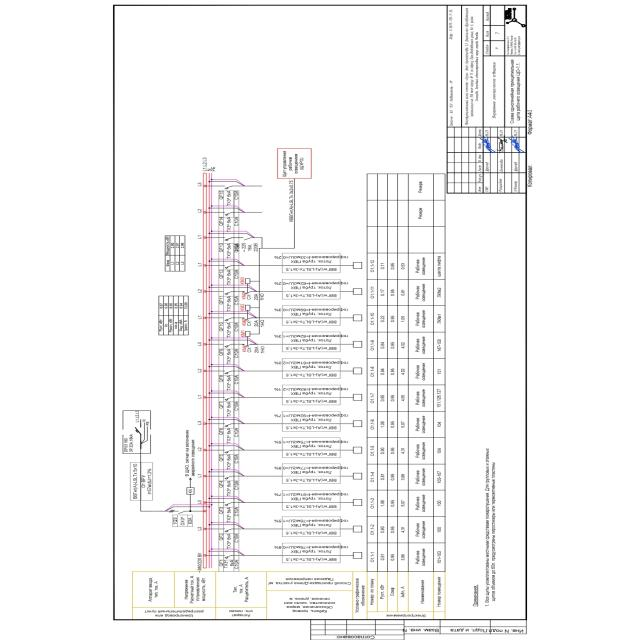-: (225, 243, 240, 260), (226, 190, 240, 207), (226, 428, 240, 444), (226, 270, 240, 286), (226, 217, 240, 233), (226, 322, 240, 338), (226, 349, 240, 365), (226, 402, 240, 418), (226, 296, 240, 312), (226, 454, 240, 470), (236, 242, 258, 252), (226, 533, 239, 549), (227, 376, 240, 392), (227, 507, 240, 522), (226, 481, 239, 496), (224, 559, 240, 571), (179, 514, 193, 527), (246, 345, 265, 354), (246, 318, 265, 327), (246, 292, 265, 301)
KM: (241, 304, 252, 321), (242, 278, 252, 294), (242, 332, 252, 348)
QF: (220, 264, 232, 270), (222, 474, 234, 480), (221, 448, 233, 454), (222, 422, 234, 428), (221, 342, 233, 348), (220, 290, 232, 295), (221, 236, 233, 241), (222, 211, 234, 216), (222, 554, 234, 559), (222, 184, 234, 189), (222, 396, 234, 401), (221, 317, 233, 322), (221, 528, 233, 532), (220, 502, 232, 506), (221, 370, 233, 374)
QS: (168, 509, 186, 514), (240, 236, 252, 241)
